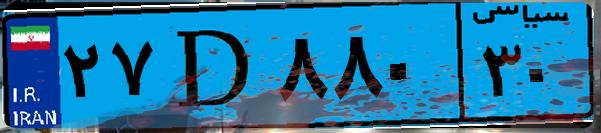0: (385, 28, 445, 110), (525, 38, 570, 115)
2: (57, 26, 110, 100)
3: (475, 38, 525, 113)
7: (110, 28, 158, 98)
8: (270, 28, 330, 110), (330, 28, 385, 110)
D: (158, 12, 270, 120)
